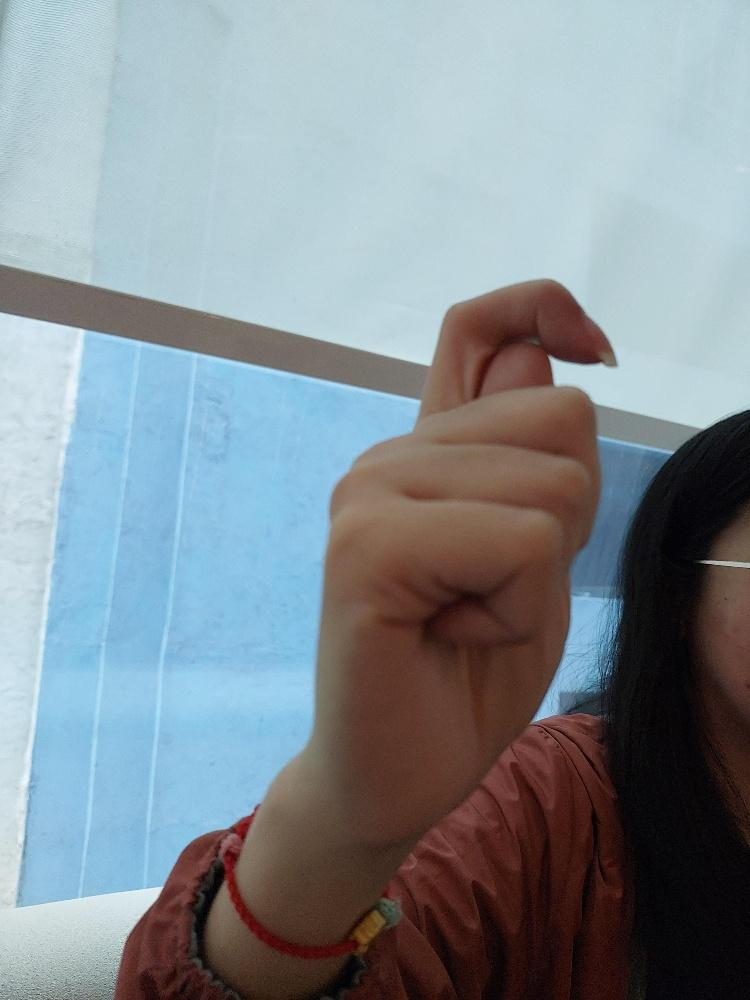t: (316, 274, 616, 839)
